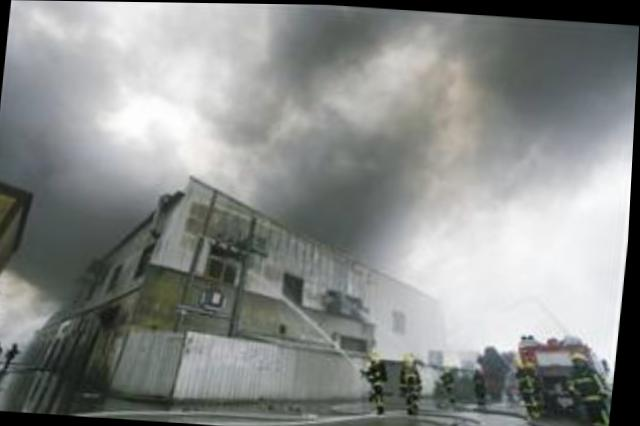smoke: (443, 12, 639, 181), (270, 108, 443, 254), (0, 0, 149, 161), (269, 3, 432, 107)
